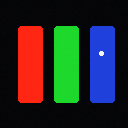0 point: (99, 51, 103, 55)
